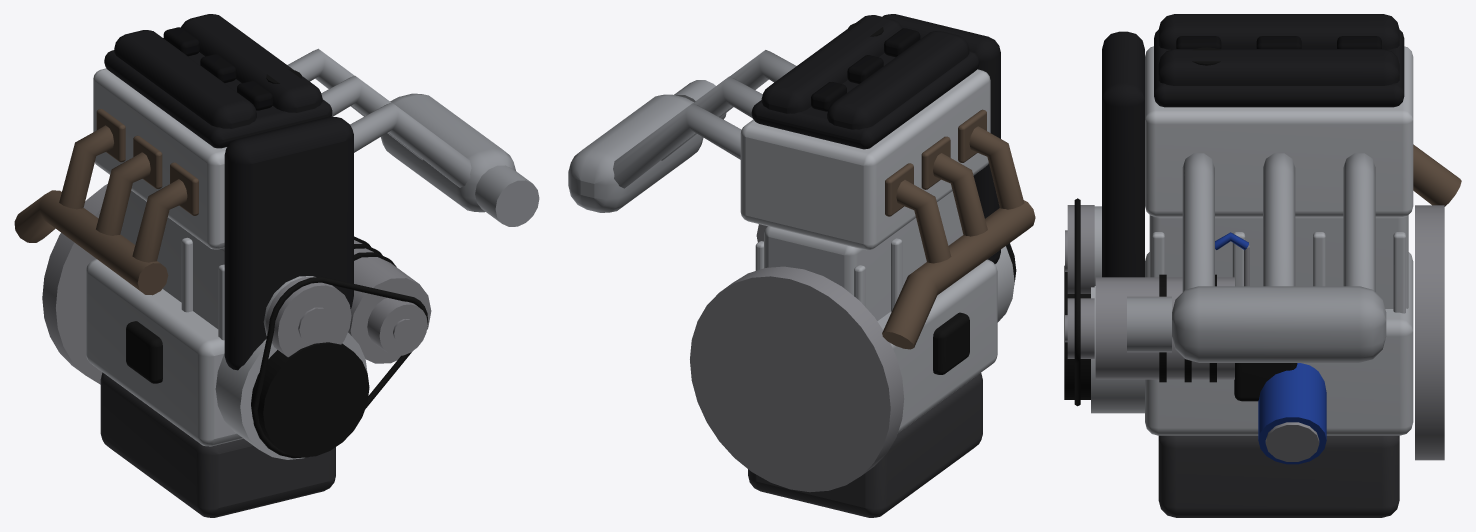
Rendered from pico_i3_1l0_na.glb.
3 views of the same model, side by side, from view 1: azimuth 30°, elevation 25°; view 2: azimuth 150°, elevation 25°; view 3: azimuth 270°, elevation 25° (orthographic). The views are drawn at different scales.
Visible parts, largest first — view 1: pico_i3_1l0_na; view 2: pico_i3_1l0_na; view 3: pico_i3_1l0_na.
Part boxes in pixels (x1,y1,x2,y2): pico_i3_1l0_na: (14,14,539,517); pico_i3_1l0_na: (568,14,1035,517); pico_i3_1l0_na: (1064,14,1461,517).
Size of the model in its own units: 0.5408 by 0.5519 by 0.4426.
